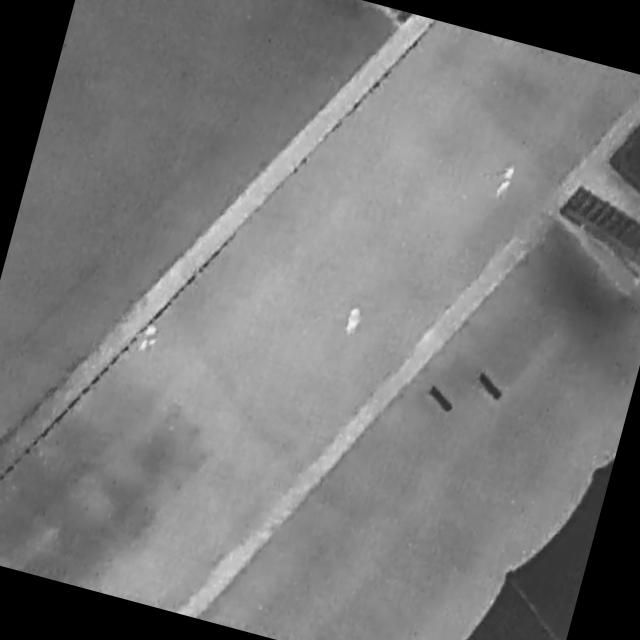person: (492, 160, 522, 203), (342, 304, 367, 340), (138, 321, 162, 355)
